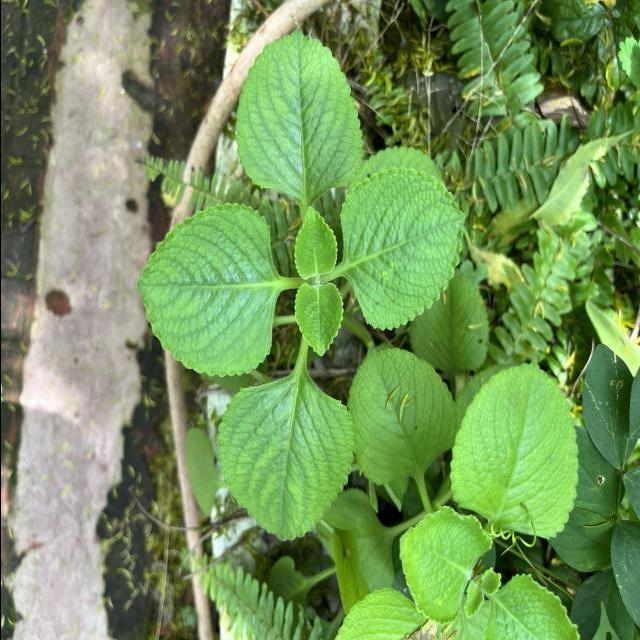Plectranthus barbatus: (134, 202, 277, 379), (448, 358, 579, 540), (214, 376, 355, 543), (232, 29, 364, 204), (338, 165, 466, 332), (345, 346, 459, 486), (398, 504, 492, 626), (292, 282, 343, 356), (292, 204, 338, 281)
